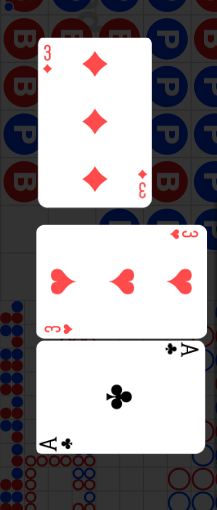3H: (44, 322, 75, 335)
6D: (42, 44, 54, 75)
AC: (162, 343, 199, 359)
